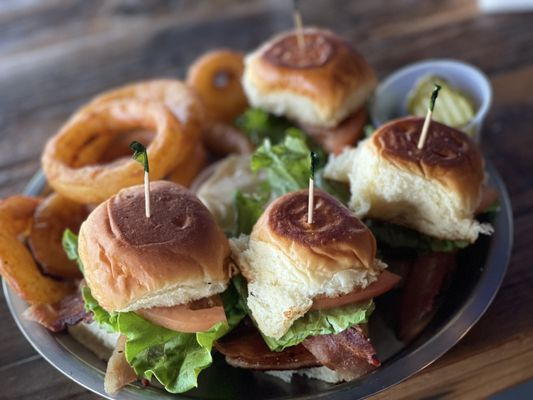salad: (414, 81, 442, 158)
soup: (63, 180, 242, 397), (217, 188, 403, 378)
